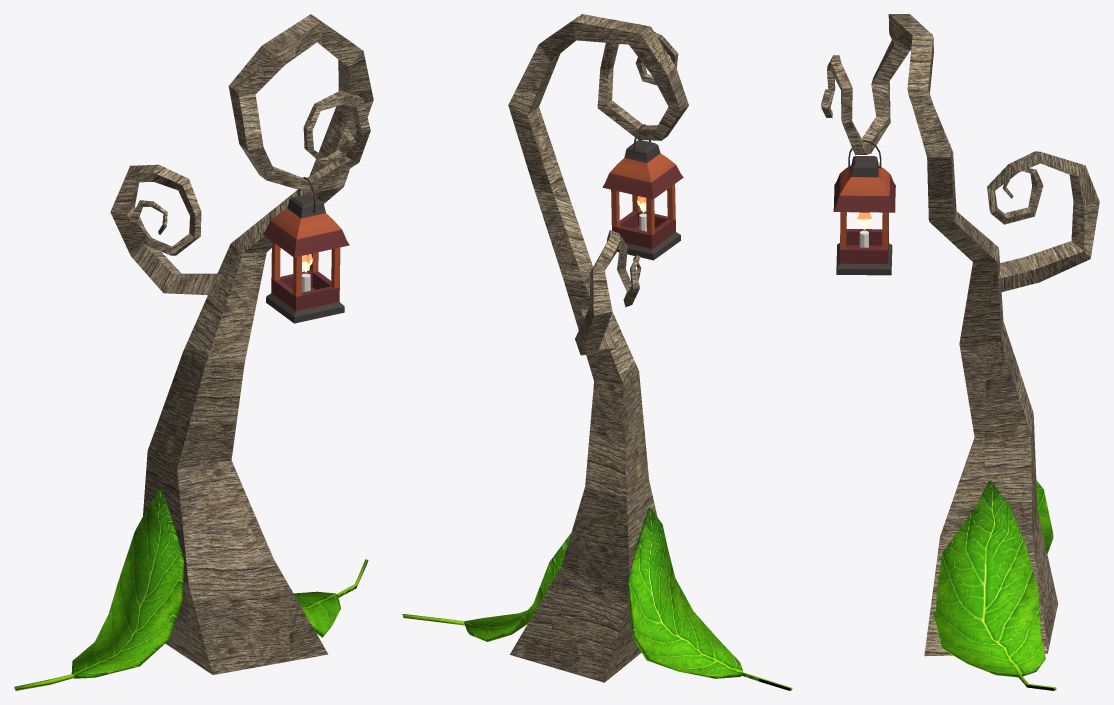
Rendered from lantern.fbx.
3 views of the same model, side by side, from view 1: azimuth 30°, elevation 25°; view 2: azimuth 150°, elevation 25°; view 3: azimuth 270°, elevation 25° (orthographic). The views are drawn at different scales.
Visible parts, largest first — view 1: Cube, vulpie leaf.001, lantern, vulpie leaf; view 2: Cube, vulpie leaf.001, lantern, vulpie leaf; view 3: Cube, vulpie leaf, lantern, vulpie leaf.001.
Part boxes in pixels (x1,y1,x2,y2): Cube: (110, 14, 373, 674); vulpie leaf.001: (14, 487, 184, 690); lantern: (262, 177, 349, 323); vulpie leaf: (293, 559, 368, 637); Cube: (508, 14, 688, 682); vulpie leaf.001: (628, 506, 792, 690); lantern: (602, 124, 683, 260); vulpie leaf: (402, 533, 571, 641); Cube: (821, 14, 1099, 656); vulpie leaf: (933, 480, 1056, 690); lantern: (833, 140, 895, 275); vulpie leaf.001: (1036, 480, 1053, 553).
Bounding box in the file's own units: 230 × 363 × 149.
9 materials, 2 textured.
